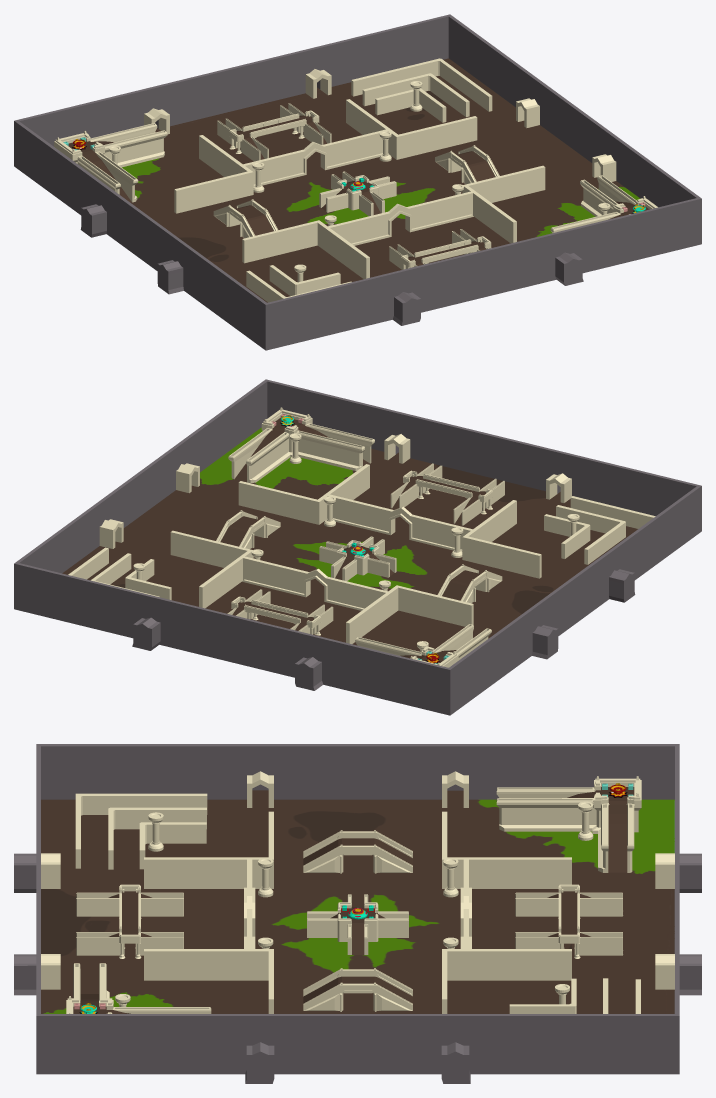
File: stage_texturized.fbx
The picture shows the model from 3 angles, top to bottom: view 1: azimuth 30°, elevation 25°; view 2: azimuth 150°, elevation 25°; view 3: azimuth 270°, elevation 25°; orthographic projection. The views are drawn at different scales.
Visible parts, largest first — view 1: Cube, Cube.008, Cube.011, Cube.010, Cube.001, Cube.002, Cube.009, Cube.007, Cube.004; view 2: Cube, Cube.008, Cube.002, Cube.009, Cube.001, Cube.010, Cube.011, Cube.007, Cube.004; view 3: Cube, Cube.011, Cube.008, Cube.009, Cube.010, Cube.001, Cube.004, Cube.007, Cube.002.
Part boxes in pixels (x1,y1,x2,y2): Cube: (14,14,701,350); Cube.008: (246,58,492,302); Cube.011: (54,123,167,202); Cube.010: (217,103,331,161); Cube.001: (319,171,396,216); Cube.002: (550,175,657,232); Cube.009: (389,229,491,269); Cube.007: (435,145,499,184); Cube.004: (213,199,277,238); Cube: (14,379,701,715); Cube.008: (68,496,655,599); Cube.002: (228,407,374,482); Cube.009: (390,463,504,525); Cube.001: (319,536,396,581); Cube.010: (227,589,333,635); Cube.011: (355,624,491,667); Cube.007: (216,510,280,549); Cube.004: (437,564,502,603); Cube: (14,744,701,1083); Cube.011: (496,776,641,872); Cube.008: (75,793,640,1013); Cube.009: (76,884,183,958); Cube.010: (515,884,623,958); Cube.001: (307,894,408,954); Cube.004: (303,830,412,873); Cube.007: (303,968,412,1011); Cube.002: (66,963,211,1013).
Size of the model in its own units: 6415 by 600 by 6415.
20 materials, 6 textured.
